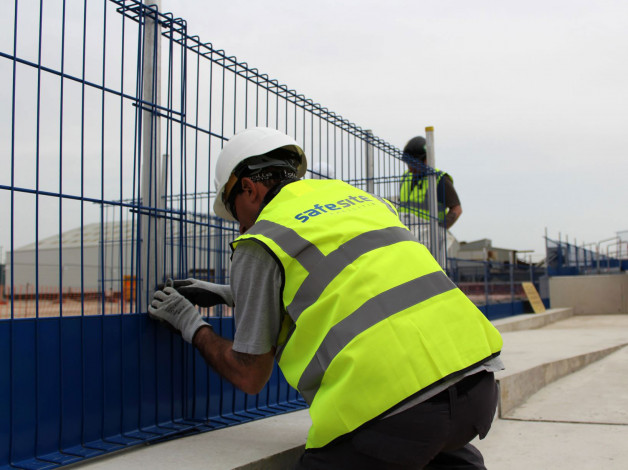Barrier: (10, 28, 191, 433)
